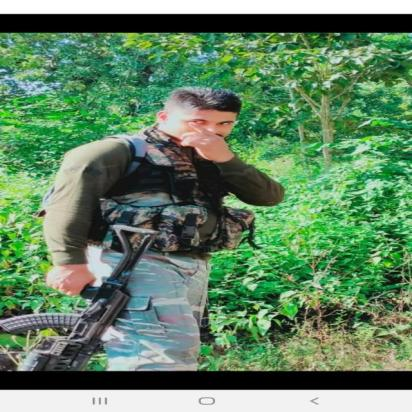Gun: (0, 223, 162, 371)
